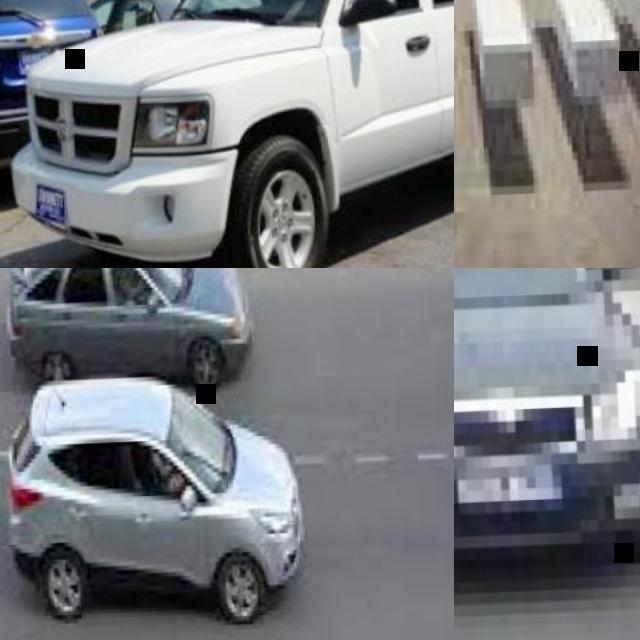car: (8, 0, 464, 269), (6, 380, 307, 624), (460, 278, 639, 596), (9, 273, 261, 375)
